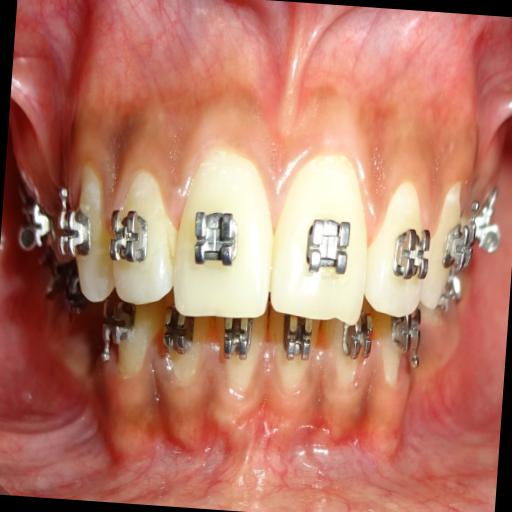correct_brace: (184, 201, 242, 273), (300, 209, 358, 280), (105, 204, 153, 272), (386, 218, 432, 287)
incorrect_brace: (364, 175, 439, 323), (102, 161, 179, 305)
